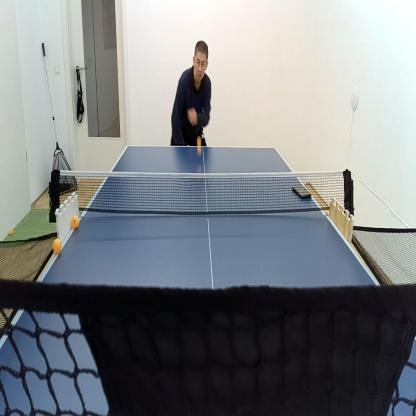Ball: (53, 239, 62, 253), (70, 217, 79, 228), (197, 136, 202, 154), (10, 229, 13, 234)
